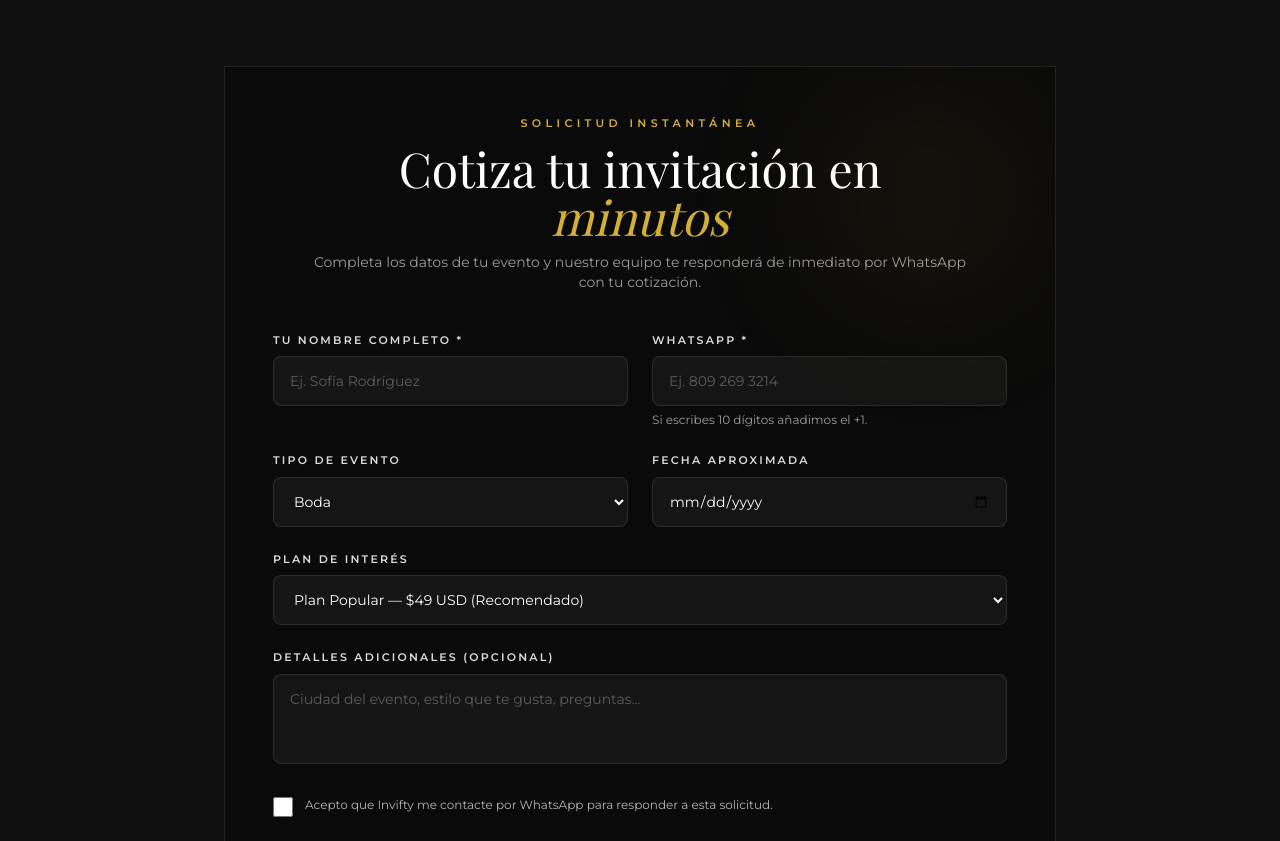
Test case: formulario de captación — validación › exige el consentimiento de contacto
Type "Sofía Rodríguez" into the field labelled "Tu nombre completo *".
click(450, 381); type("Sofía Rodríguez")  # box [273,356,628,406]
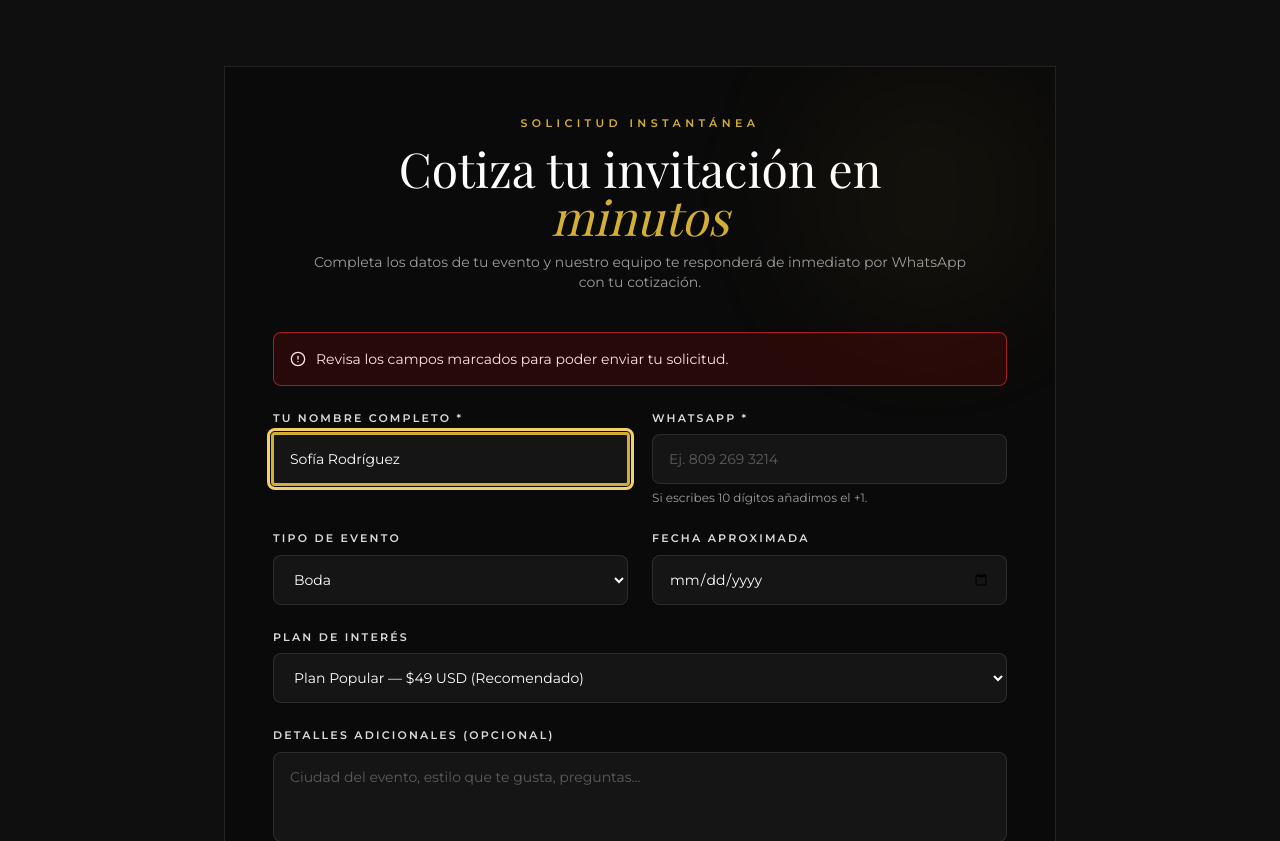
Type "8092693214" into the field labelled "WhatsApp *".
click(830, 459); type("8092693214")  # box [652,434,1007,484]
(page scrolled)
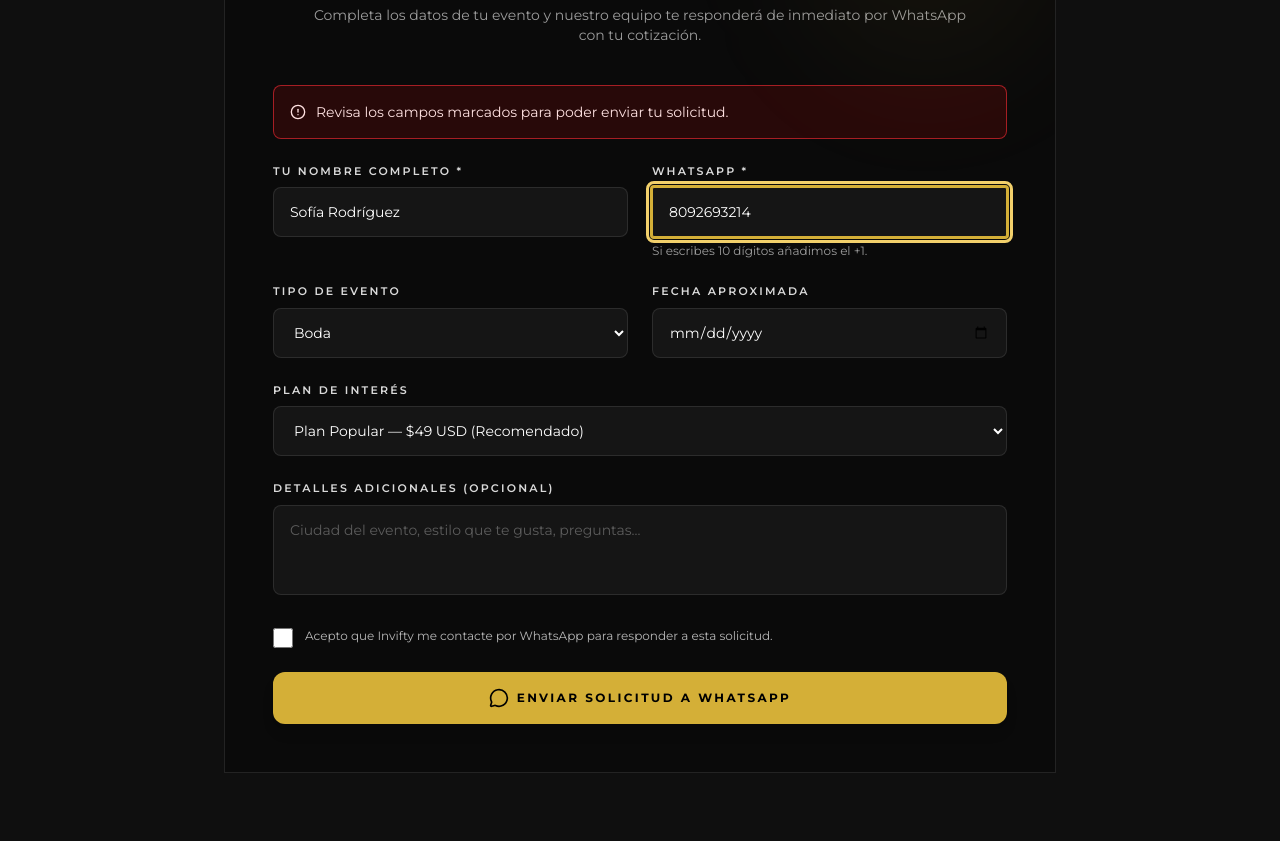
# Sin marcar la casilla de consentimiento.
Click the button "Enviar Solicitud a WhatsApp".
click(640, 698)  # box [273,672,1007,724]
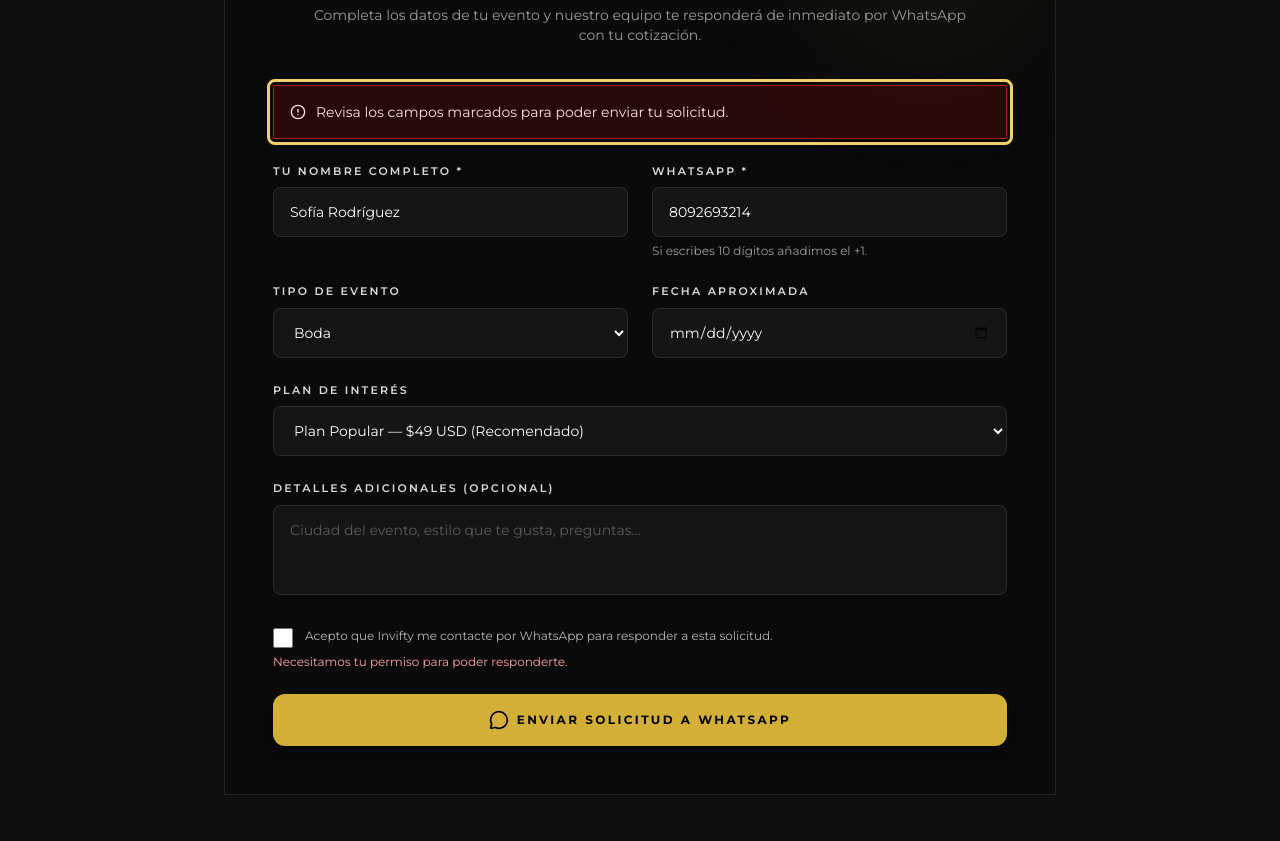
Result: the text "Necesitamos tu permiso para poder responderte." is shown at [273,654,568,668]
